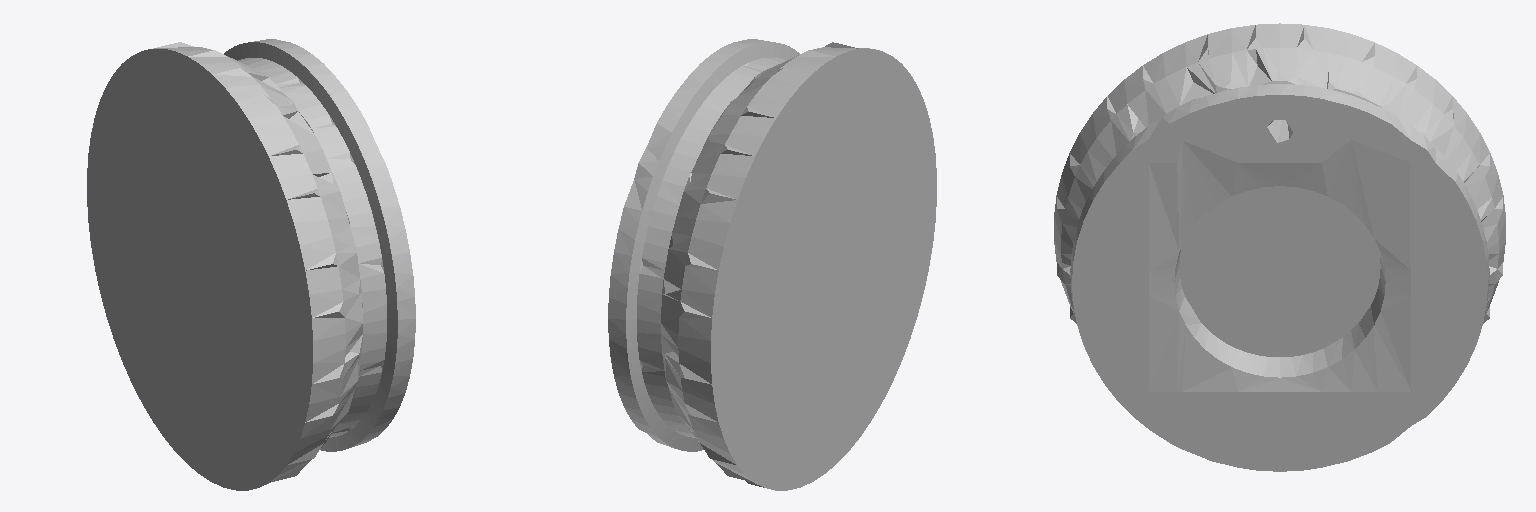
The picture shows the model from 3 angles: view 1: azimuth 30°, elevation 25°; view 2: azimuth 150°, elevation 25°; view 3: azimuth 270°, elevation 25°; orthographic projection.
Parts seen in each view (by area): view 1: kr60_7_kr60_3.004; view 2: kr60_7_kr60_3.004; view 3: kr60_7_kr60_3.004.
Boxes of the visible parts, x1,y1,x2,y2 form: kr60_7_kr60_3.004: [87, 39, 415, 490]; kr60_7_kr60_3.004: [608, 39, 936, 490]; kr60_7_kr60_3.004: [1054, 23, 1505, 471].
Bounding box in the file's own units: 0.0459 × 0.1609 × 0.1607.